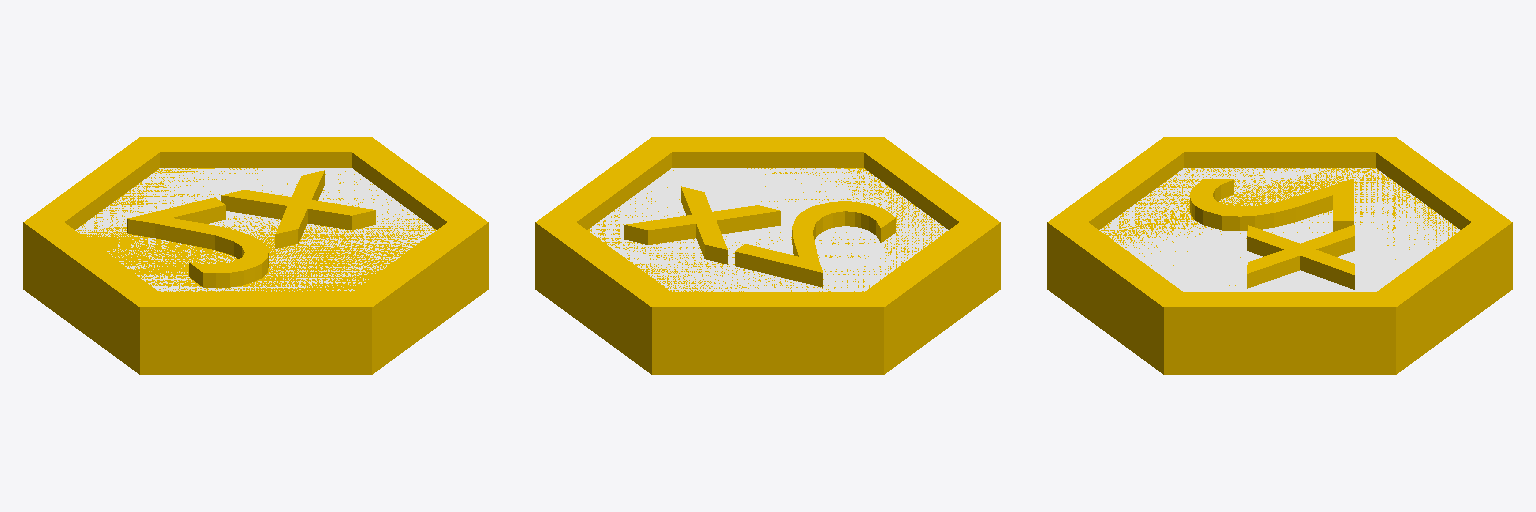
3 views of the same model, side by side, from view 1: azimuth 30°, elevation 25°; view 2: azimuth 150°, elevation 25°; view 3: azimuth 270°, elevation 25° (orthographic).
Visible parts, largest first — view 1: Circle_Circle.001, Plane; view 2: Circle_Circle.001, Plane; view 3: Circle_Circle.001, Plane.
Part boxes in pixels (x1,y1,x2,y2): Circle_Circle.001: (23,137,488,374); Plane: (127,170,375,287); Circle_Circle.001: (535,137,1000,374); Plane: (624,186,895,287); Circle_Circle.001: (1047,137,1512,374); Plane: (1190,179,1354,289).
Size of the model in its own units: 3.13 by 0.5772 by 3.61.
1 materials, 1 textured.